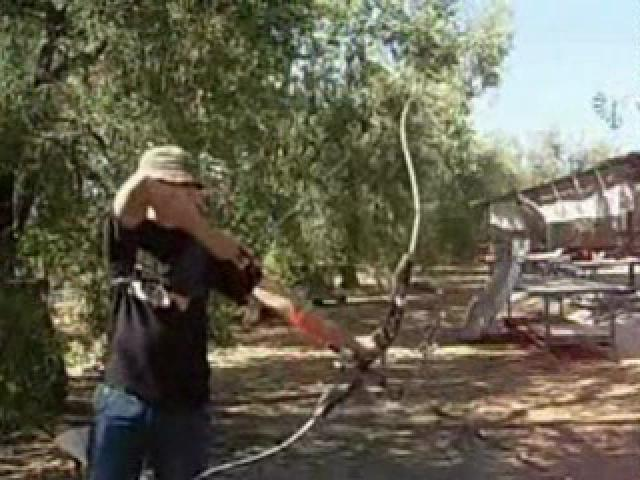I: (71, 141, 374, 478)
